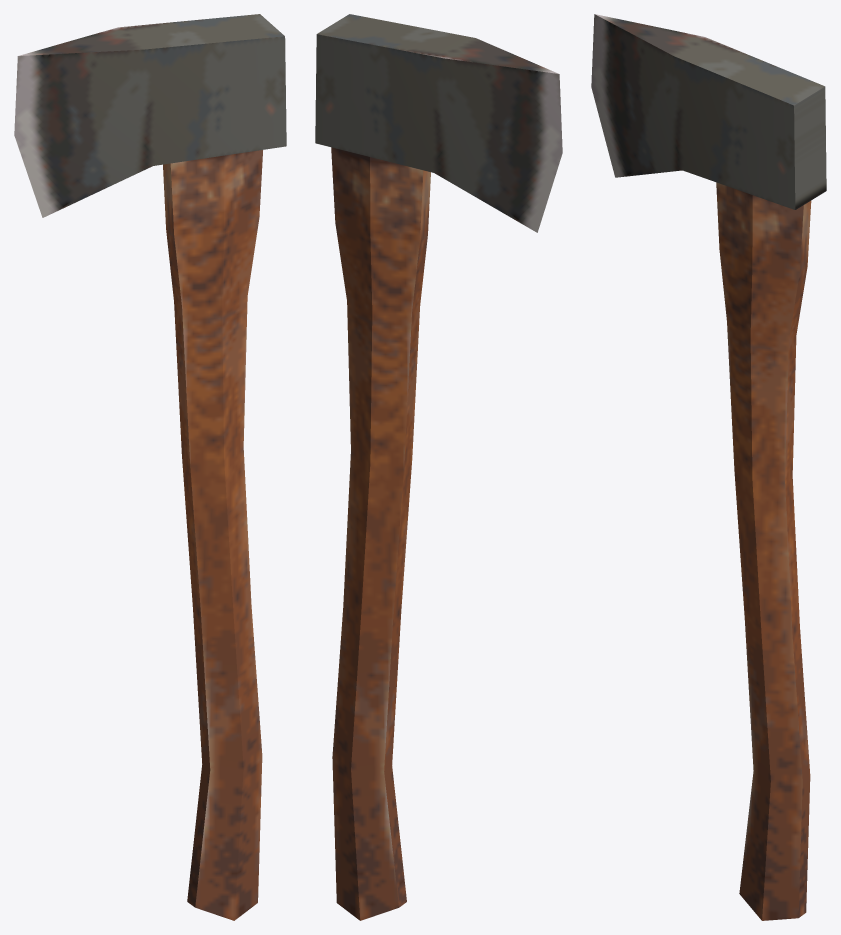
File: NewHatchet.fbx
3 renders of one model, left to right at view 1: azimuth 30°, elevation 25°; view 2: azimuth 150°, elevation 25°; view 3: azimuth 330°, elevation 25°, orthographic. The views are drawn at different scales.
Parts seen in each view (by area): view 1: Cube.003; view 2: Cube.003; view 3: Cube.003.
Part boxes in pixels (left/top/right/bottom): Cube.003: left=14, top=14, right=286, bottom=920; Cube.003: left=315, top=14, right=562, bottom=920; Cube.003: left=591, top=14, right=826, bottom=920.
Bounding box in the file's own units: 227 × 786 × 57.97.
